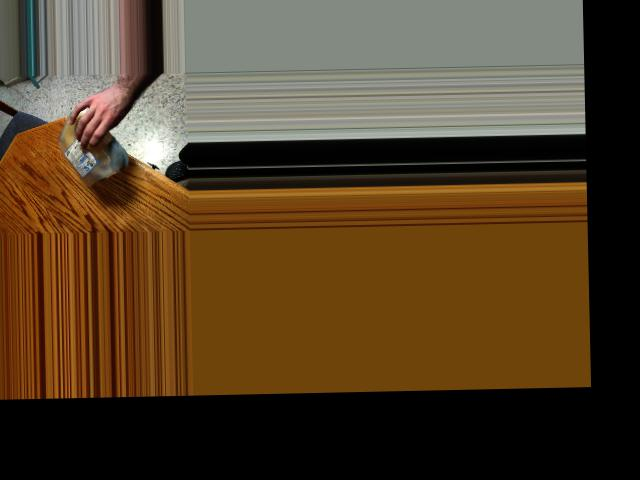cheese: (52, 102, 120, 188)
